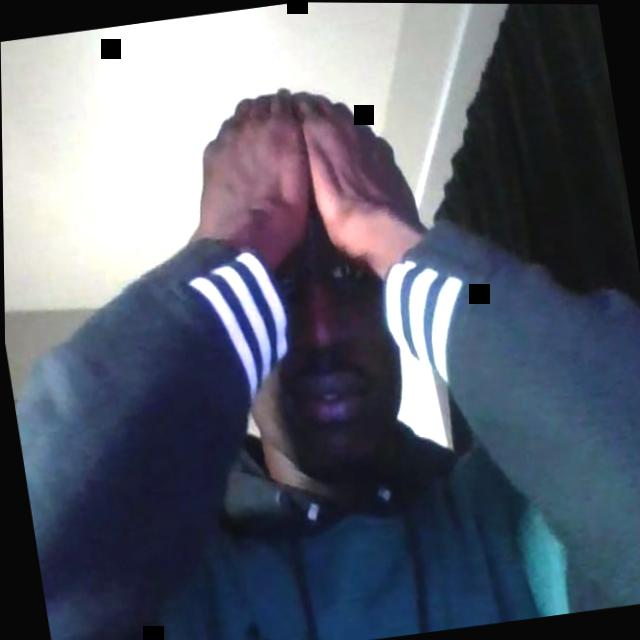NO-Mask: (225, 207, 418, 494)
